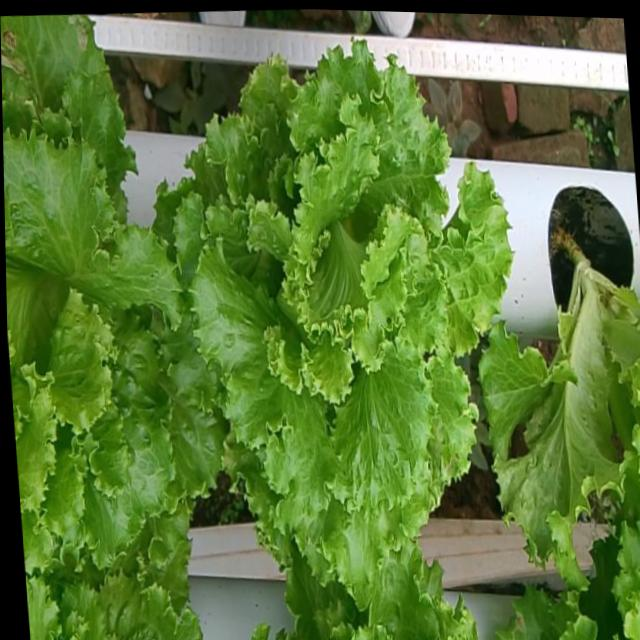Mature: (164, 29, 501, 569), (3, 113, 214, 554)
